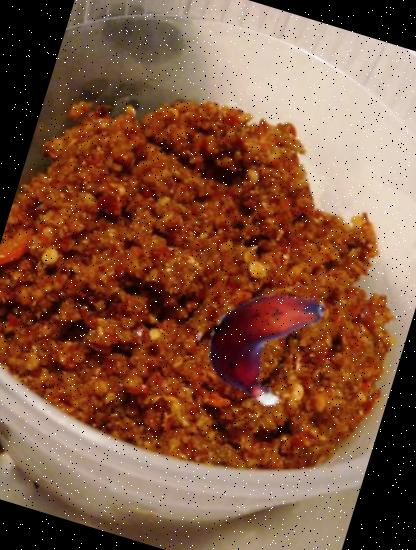Banana: (189, 260, 346, 416)
